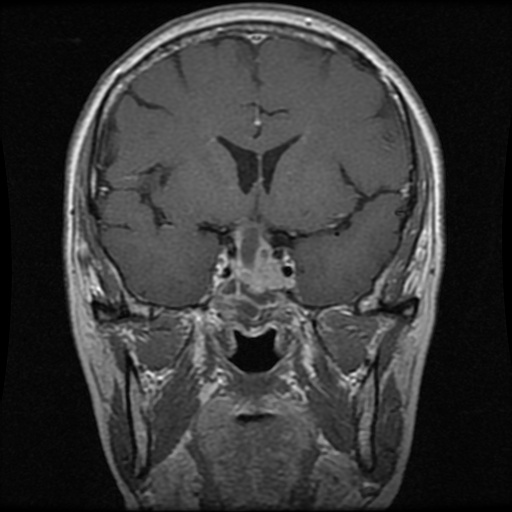pituitary: (228, 221, 286, 303)
